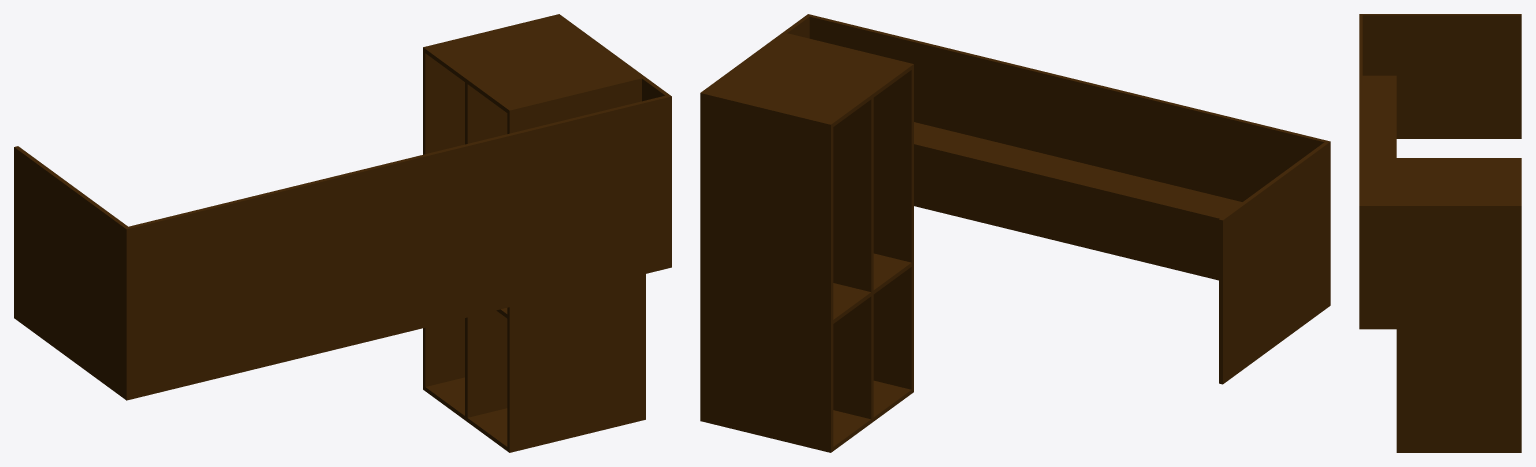
Rendered from Desk.obj.
3 renders of one model, left to right at view 1: azimuth 30°, elevation 25°; view 2: azimuth 150°, elevation 25°; view 3: azimuth 270°, elevation 25°, orthographic. The views are drawn at different scales.
Parts seen in each view (by area): view 1: mesh24, mesh35, mesh25, mesh27, mesh4, mesh9, mesh31, mesh19, mesh5, mesh15, mesh0, mesh16; view 2: mesh22, mesh28, mesh37, mesh25, mesh27, mesh29, mesh10, mesh14, mesh20, mesh3, mesh5, mesh32 (+5 smaller); view 3: mesh23, mesh33, mesh27, mesh29.
Boxes of the visible parts, <box> form: mesh24: <box>126,96,671,400</box>; mesh35: <box>509,274,645,452</box>; mesh25: <box>14,147,126,400</box>; mesh27: <box>14,14,671,229</box>; mesh4: <box>467,310,507,417</box>; mesh9: <box>425,53,464,153</box>; mesh31: <box>509,78,641,133</box>; mesh19: <box>425,318,464,386</box>; mesh5: <box>423,47,509,452</box>; mesh15: <box>467,84,507,143</box>; mesh0: <box>468,408,507,446</box>; mesh16: <box>426,377,464,415</box>; mesh22: <box>700,93,830,452</box>; mesh28: <box>809,16,1324,201</box>; mesh37: <box>914,148,1218,280</box>; mesh25: <box>1223,142,1330,383</box>; mesh27: <box>700,14,1330,220</box>; mesh29: <box>914,122,1242,218</box>; mesh10: <box>833,99,871,291</box>; mesh14: <box>873,70,911,262</box>; mesh20: <box>833,296,871,419</box>; mesh3: <box>873,267,911,389</box>; mesh5: <box>831,64,913,452</box>; mesh32: <box>914,144,1219,222</box>; mesh23: <box>1359,206,1521,452</box>; mesh33: <box>1362,15,1521,138</box>; mesh27: <box>1359,14,1521,205</box>; mesh29: <box>1362,75,1396,204</box>.
Size of the model in its own units: 2 by 1.2 by 0.715.
